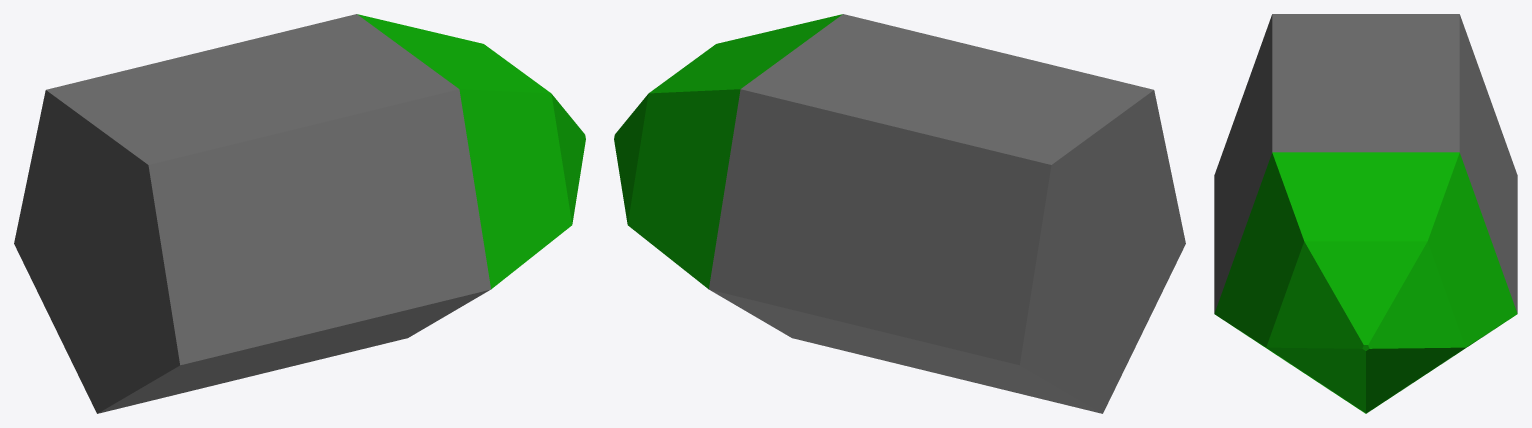
Rendered from Revolver bullet green.FBX.
The picture shows the model from 3 angles, left to right: view 1: azimuth 30°, elevation 25°; view 2: azimuth 150°, elevation 25°; view 3: azimuth 270°, elevation 25°; orthographic projection. The views are drawn at different scales.
Parts seen in each view (by area): view 1: Revolver bullet, Object001; view 2: Revolver bullet, Object001; view 3: Object001, Revolver bullet.
Boxes of the visible parts, x1,y1,x2,y2 form: Revolver bullet: (14, 14, 490, 413); Object001: (357, 14, 585, 289); Revolver bullet: (709, 14, 1185, 413); Object001: (614, 14, 842, 289); Object001: (1214, 152, 1517, 413); Revolver bullet: (1214, 14, 1517, 313).
Size of the model in its own units: 5.53 by 3.11 by 3.27.
